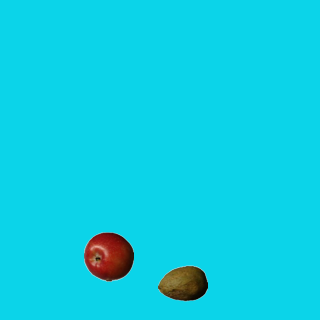Apple Braeburn: (83, 231, 133, 281)
Papaya: (157, 258, 207, 308)
